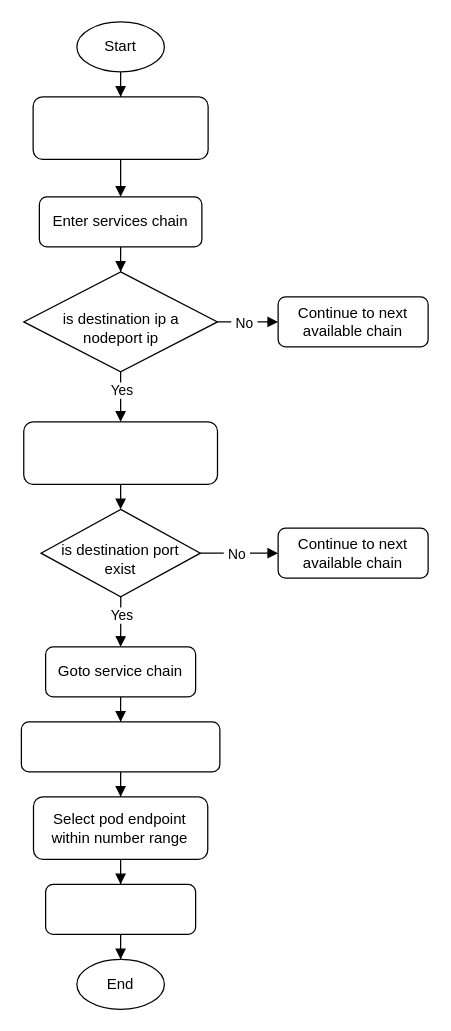
This 451x1031 diagram has some shape labels left out. The shapes that lost their labels are listed below. From the top down, each one's box as (x1, y1, x2, y2) in pixels, then its label:
(32, 96, 208, 159): Enter prerouting chain priority mangle
(22, 421, 218, 484): Lookup verdict map with destination port as key
(20, 721, 220, 772): Pick random number 0-N
(44, 883, 196, 934): Forward request
